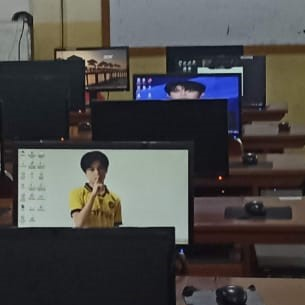monitor: (15, 141, 194, 247), (91, 98, 230, 178), (133, 69, 243, 136), (0, 59, 85, 142), (54, 46, 131, 105)
